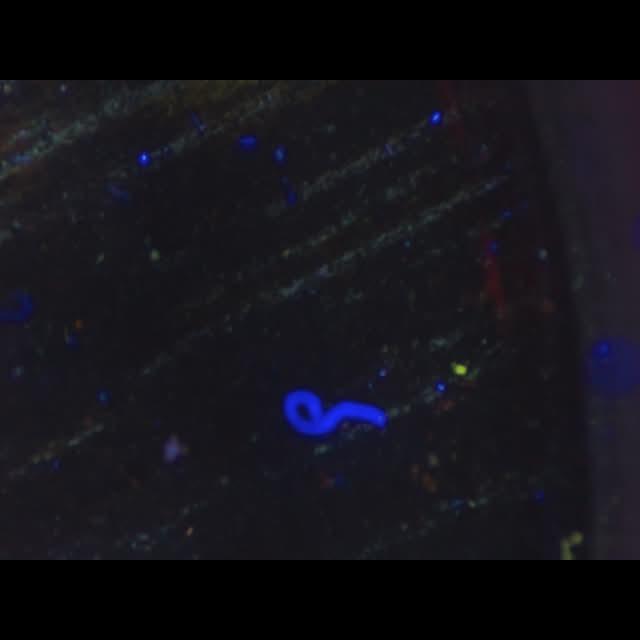microbeads: (451, 361, 469, 379)
